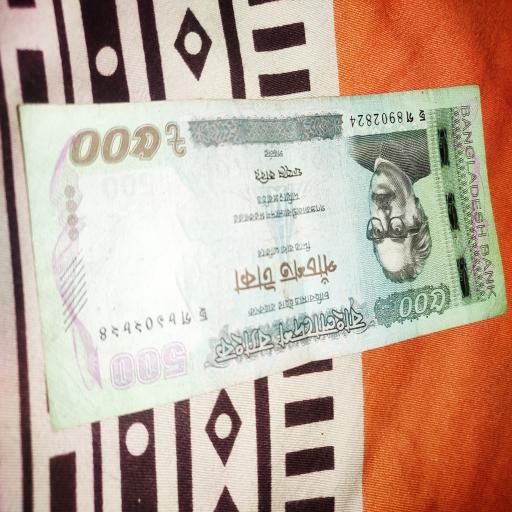500taka: (19, 87, 506, 429)
